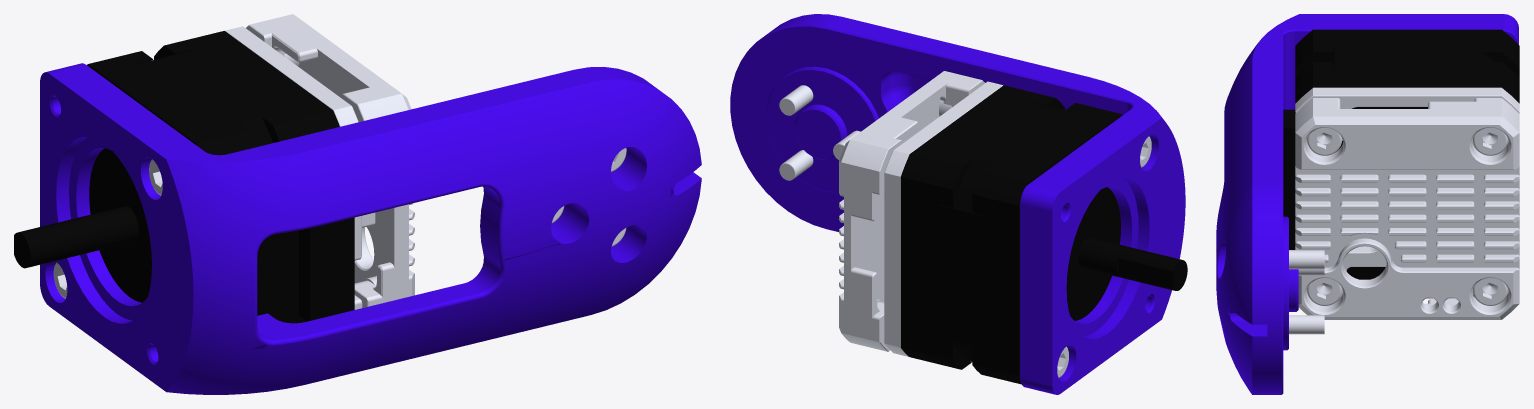
3 renders of one model, left to right at view 1: azimuth 30°, elevation 25°; view 2: azimuth 150°, elevation 25°; view 3: azimuth 270°, elevation 25°, orthographic. The views are drawn at different scales.
Visible parts, largest first — view 1: Dummy-0003.STEP-1, 35-20步进电机_1.STEP-1, Dummy-0021_2.STEP-1, Dummy-0020_2.STEP-1; view 2: Dummy-0003.STEP-1, 35-20步进电机_1.STEP-1, Dummy-0021_2.STEP-1, Dummy-0020_2.STEP-1, 内六角螺丝 M3-8_1.STEP-2, 内六角螺丝 M3-8_1.STEP-1; view 3: Dummy-0021_2.STEP-1, Dummy-0003.STEP-1, 35-20步进电机_1.STEP-1, Dummy-0020_2.STEP-1, 内六角螺丝 M3-25_1.STEP-4, 内六角螺丝 M3-25_1.STEP-2, 内六角螺丝 M3-25_1.STEP-3, 内六角螺丝 M3-25_1.STEP-5, 内六角螺丝 M3-8_1.STEP-1, 内六角螺丝 M3-8_1.STEP-2.
Part boxes in pixels (x1,y1,x2,y2): Dummy-0003.STEP-1: (40,63,701,394); 35-20步进电机_1.STEP-1: (14,31,354,323); Dummy-0021_2.STEP-1: (246,14,414,307); Dummy-0020_2.STEP-1: (225,26,362,309); Dummy-0003.STEP-1: (730,14,1185,394); 35-20步进电机_1.STEP-1: (900,85,1187,384); Dummy-0021_2.STEP-1: (839,71,984,351); Dummy-0020_2.STEP-1: (884,81,1002,356); 内六角螺丝 M3-8_1.STEP-2: (779,85,813,115); 内六角螺丝 M3-8_1.STEP-1: (779,150,813,180); Dummy-0021_2.STEP-1: (1295,98,1519,319); Dummy-0003.STEP-1: (1216,14,1518,394); 35-20步进电机_1.STEP-1: (1283,29,1519,279); Dummy-0020_2.STEP-1: (1295,87,1519,298); 内六角螺丝 M3-25_1.STEP-4: (1307,127,1342,155); 内六角螺丝 M3-25_1.STEP-2: (1473,278,1507,305); 内六角螺丝 M3-25_1.STEP-3: (1473,127,1507,155); 内六角螺丝 M3-25_1.STEP-5: (1307,278,1342,305); 内六角螺丝 M3-8_1.STEP-1: (1289,315,1324,334); 内六角螺丝 M3-8_1.STEP-2: (1289,250,1324,269).
Bounding box in the file's own units: 0.093 × 0.0352 × 0.0476.
